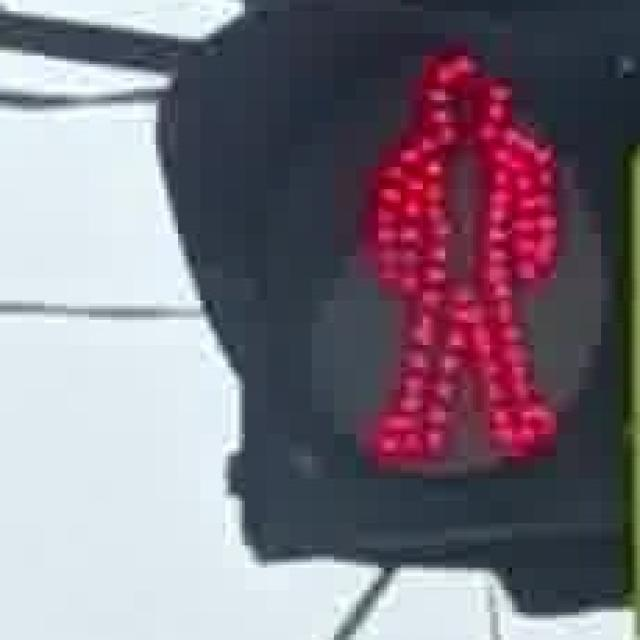red-crossing: (322, 25, 582, 473)
